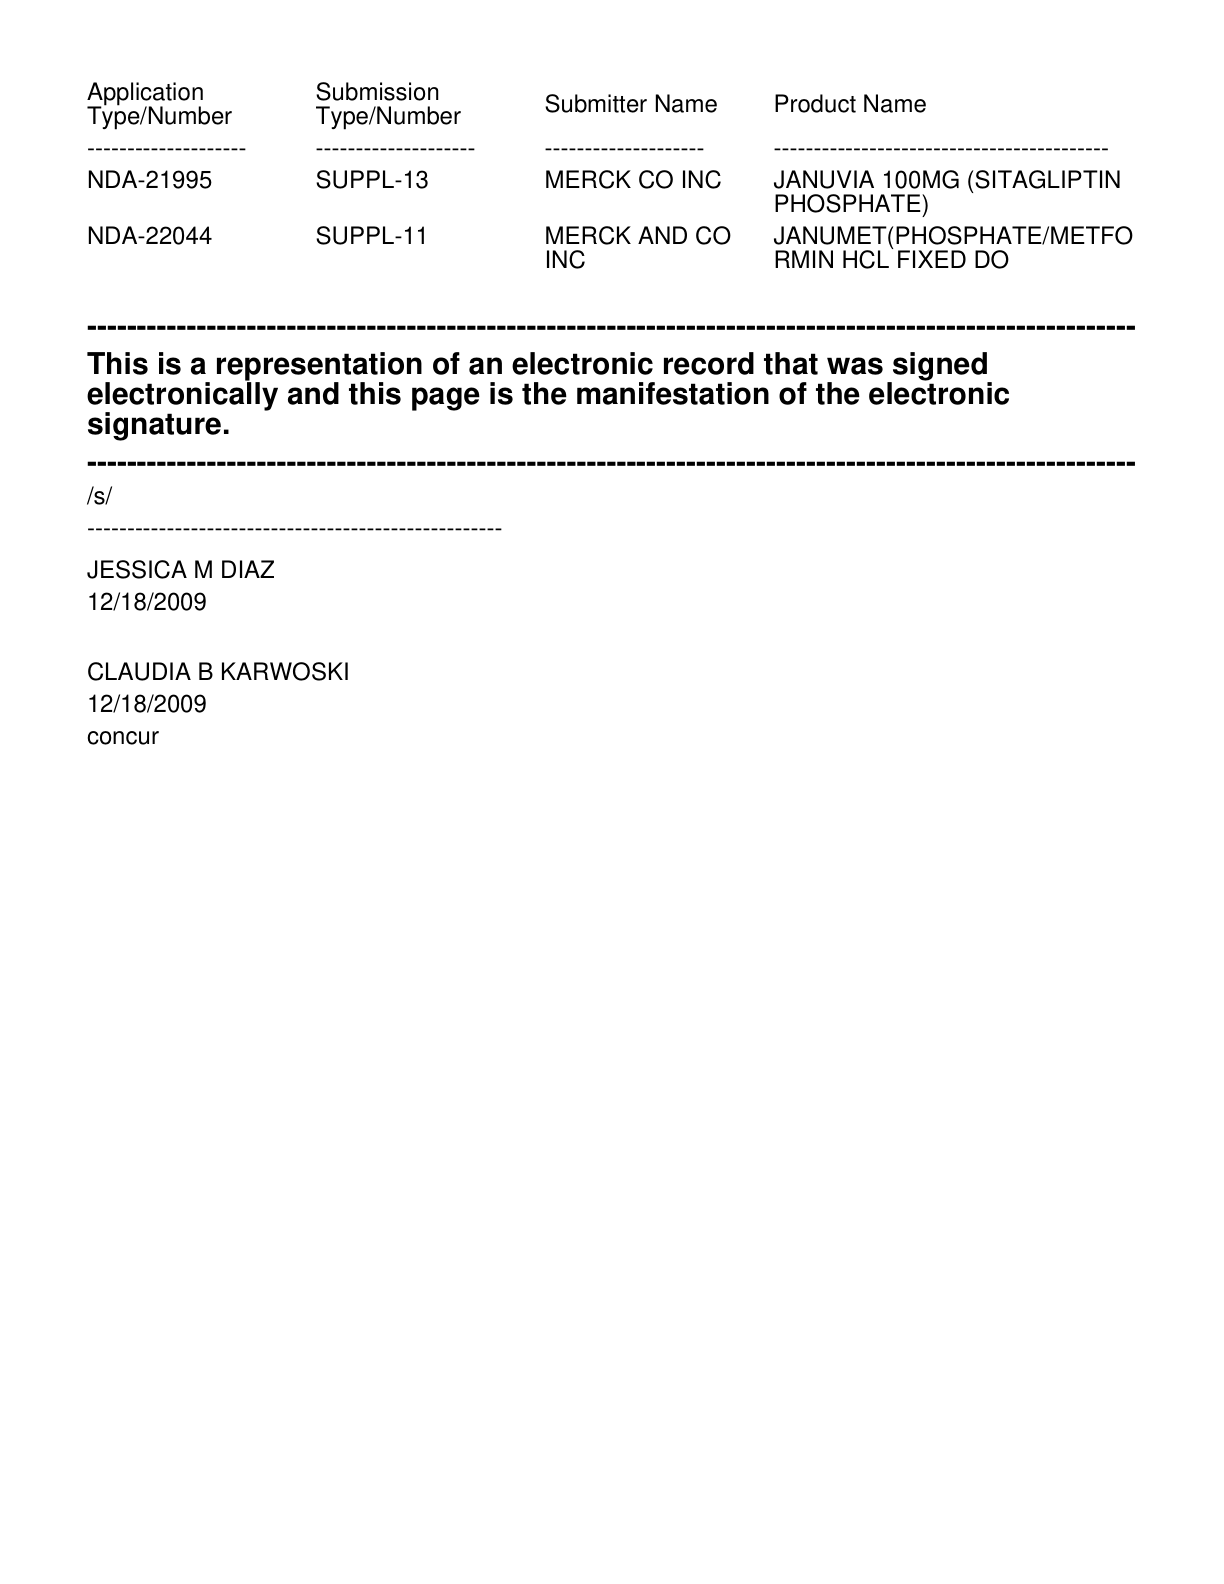nolines: (84, 77, 1137, 273)
